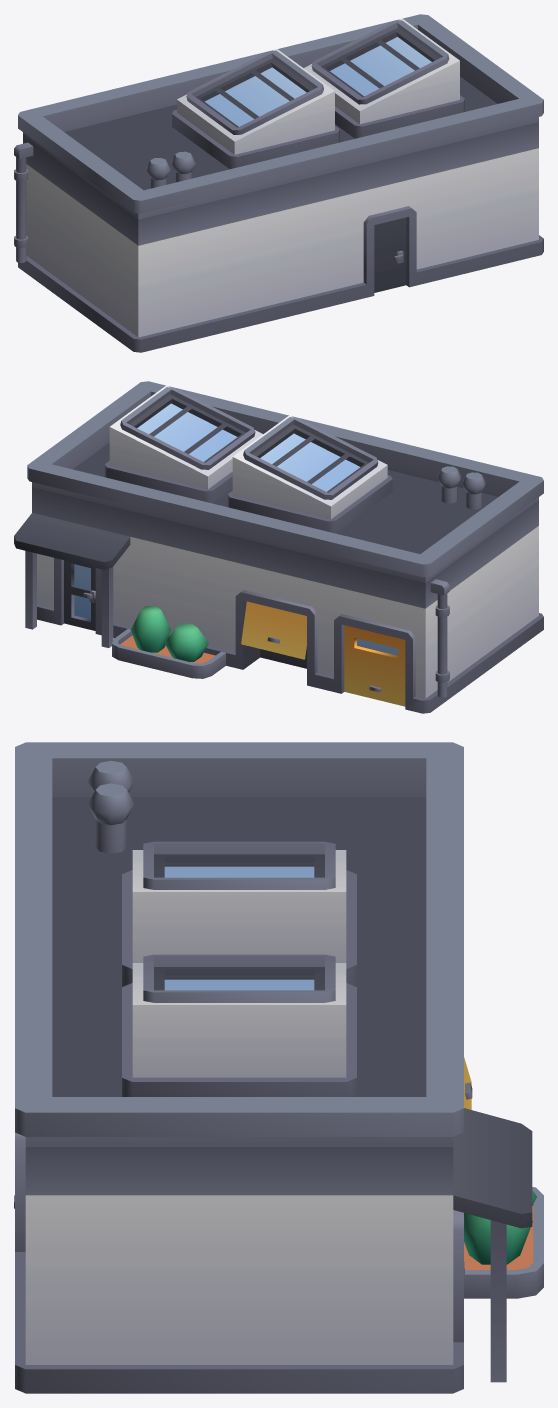
Rendered from k-city-kit-industrial-building-p.glb.
3 renders of one model, top to bottom at view 1: azimuth 30°, elevation 25°; view 2: azimuth 150°, elevation 25°; view 3: azimuth 270°, elevation 25°, orthographic. The views are drawn at different scales.
Visible parts, largest first — view 1: building-p; view 2: building-p; view 3: building-p.
Part boxes in pixels (box(x1,y1,x2,y2)): building-p: box(14, 14, 543, 352); building-p: box(14, 381, 543, 713); building-p: box(14, 742, 543, 1393).
Bounding box in the file's own units: 1.68 × 0.7144 × 0.992.
1 material, 1 textured.
